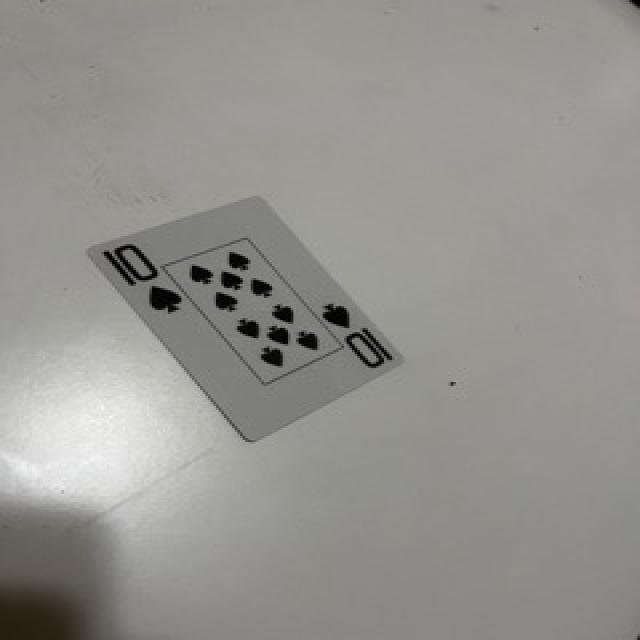10 of spades: (91, 198, 402, 441)
